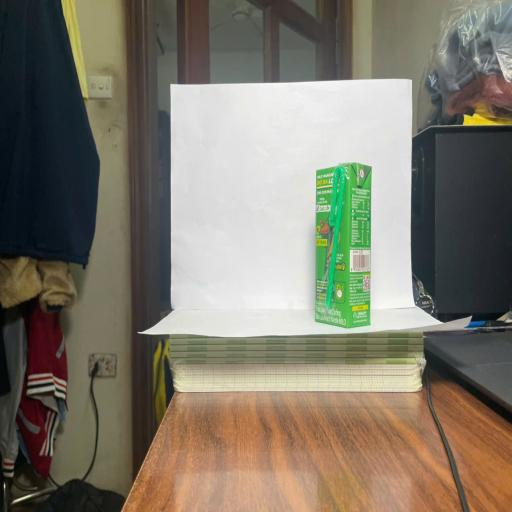milo: (314, 166, 372, 328)
